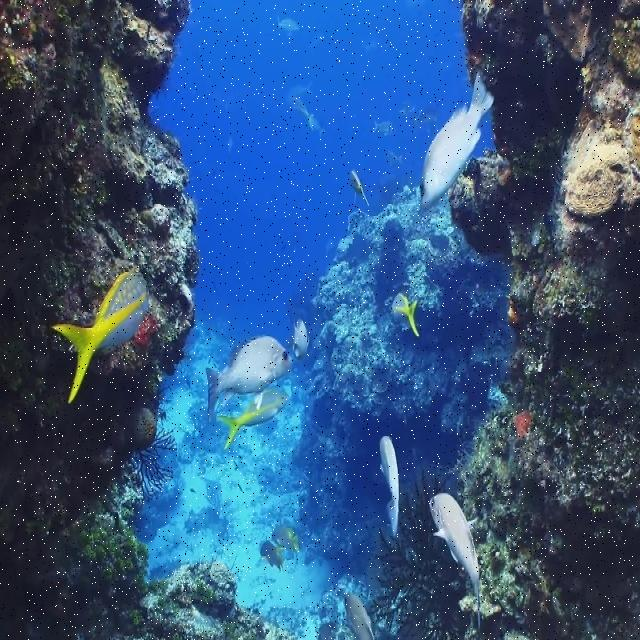aquatic plants: (371, 468, 472, 639)
fish: (51, 271, 149, 403), (418, 72, 495, 206), (431, 494, 489, 628), (206, 339, 295, 424), (218, 391, 287, 448), (380, 434, 398, 537), (390, 294, 421, 338), (345, 596, 376, 639), (293, 317, 308, 356)
sea-floor: (0, 1, 299, 638), (448, 3, 639, 639)
